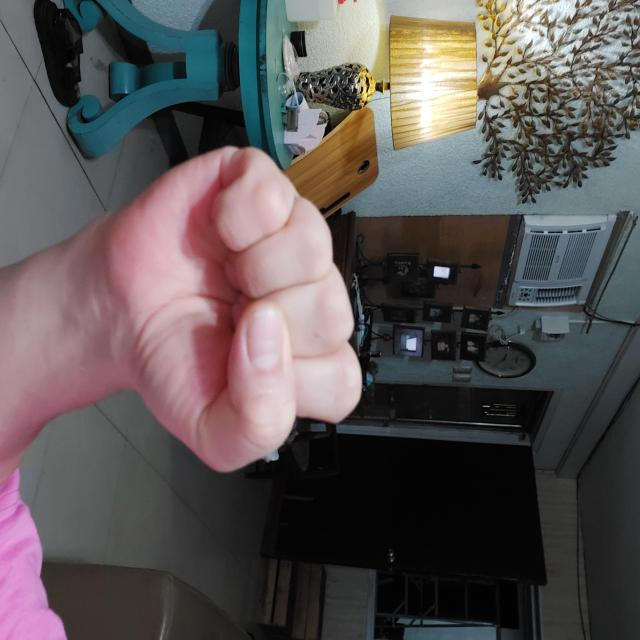S: (146, 277, 474, 540)
